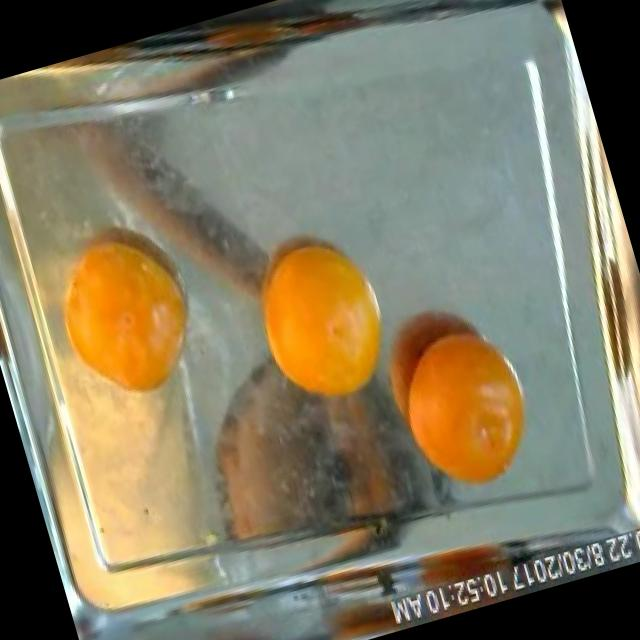Fruit: (164, 318, 388, 584), (46, 340, 260, 602), (366, 272, 564, 520), (228, 200, 415, 428)
